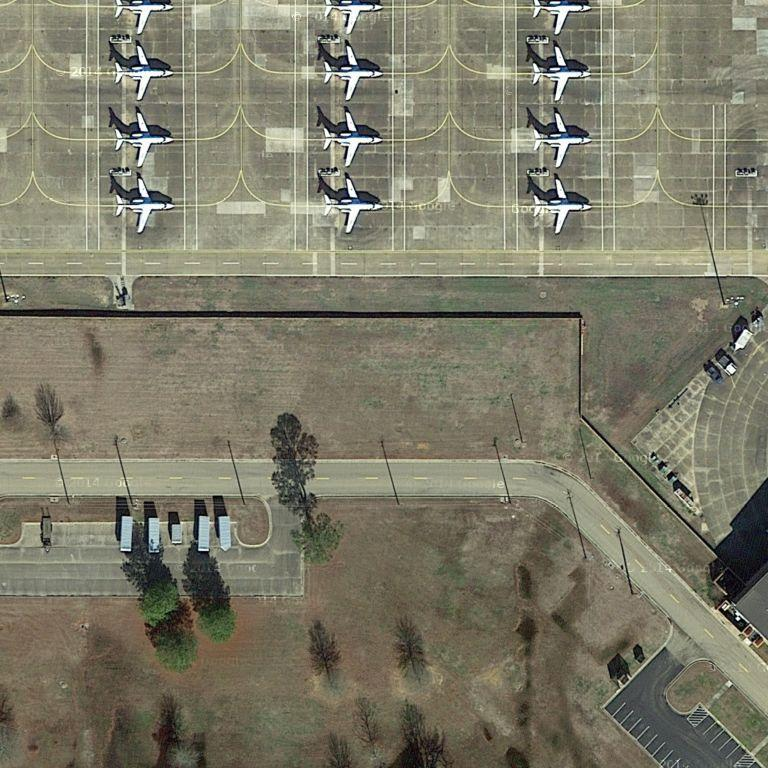plane: (524, 108, 596, 168), (315, 175, 388, 233), (108, 40, 175, 103), (527, 174, 595, 235), (318, 45, 388, 103), (110, 112, 179, 168), (319, 110, 384, 169), (528, 44, 592, 103), (111, 177, 177, 234), (102, 2, 189, 35), (314, 2, 387, 36), (525, 2, 597, 35)
